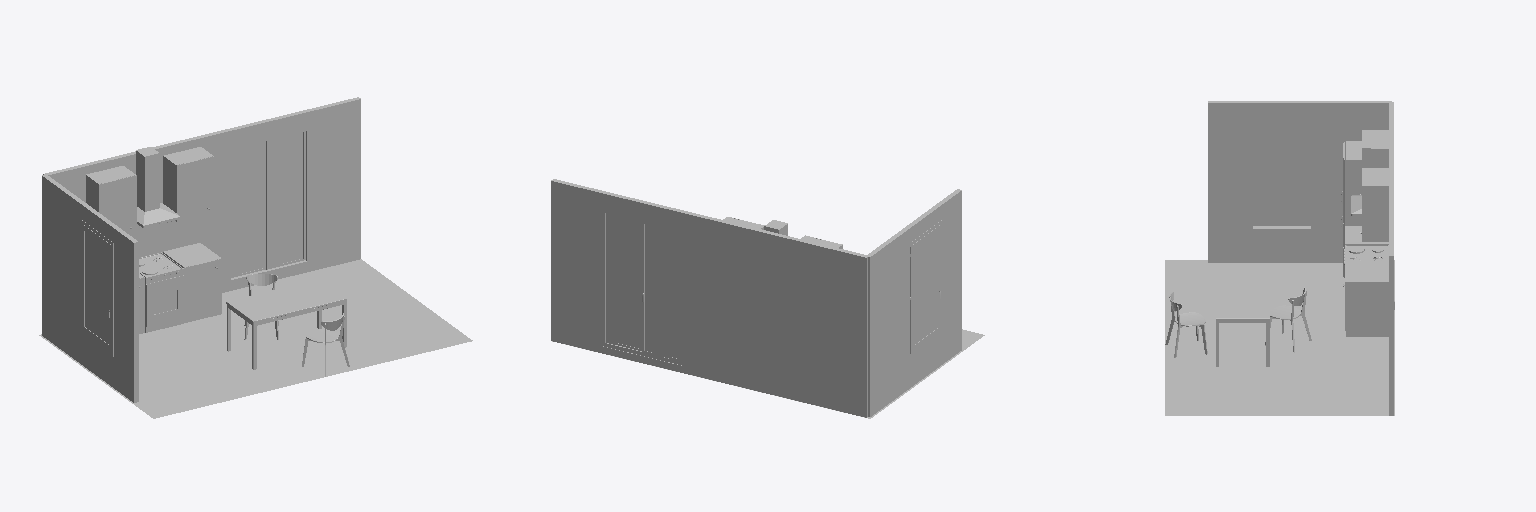
The model's file is Kitchen Models.obj.
3 views of the same model, side by side, from view 1: azimuth 30°, elevation 25°; view 2: azimuth 150°, elevation 25°; view 3: azimuth 270°, elevation 25° (orthographic).
Parts seen in each view (by area): view 1: Kitchen_Models; view 2: Kitchen_Models; view 3: Kitchen_Models.
Part boxes in pixels (bbox=[...]): Kitchen_Models: bbox=[39, 97, 472, 418]; Kitchen_Models: bbox=[551, 179, 984, 418]; Kitchen_Models: bbox=[1165, 101, 1394, 415].
Bounding box in the file's own units: 73.7 × 36.14 × 45.83.